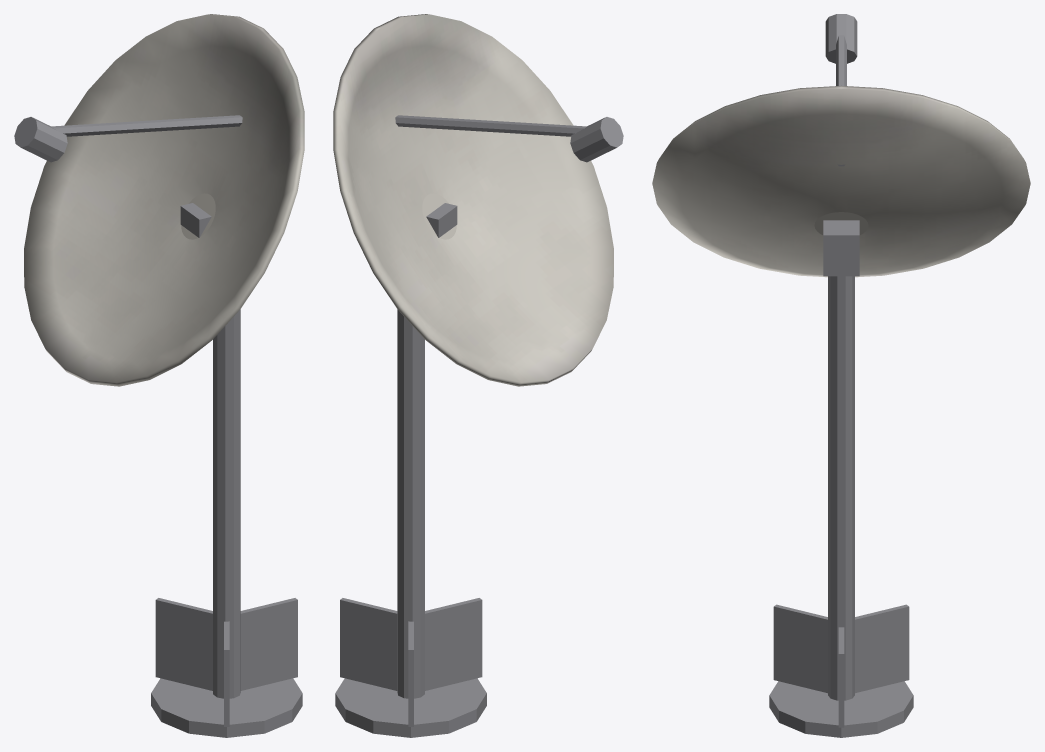
The model's file is satellite_dish.glb.
3 renders of one model, left to right at view 1: azimuth 30°, elevation 25°; view 2: azimuth 150°, elevation 25°; view 3: azimuth 270°, elevation 25°, orthographic. The views are drawn at different scales.
Parts seen in each view (by area): view 1: SatelliteDish; view 2: SatelliteDish; view 3: SatelliteDish.
Boxes of the visible parts, x1,y1,x2,y2 form: SatelliteDish: (14, 14, 304, 737); SatelliteDish: (333, 14, 623, 737); SatelliteDish: (652, 14, 1030, 737).
Size of the model in its own units: 0.6791 by 1.56 by 0.84.
2 materials, 1 textured.
